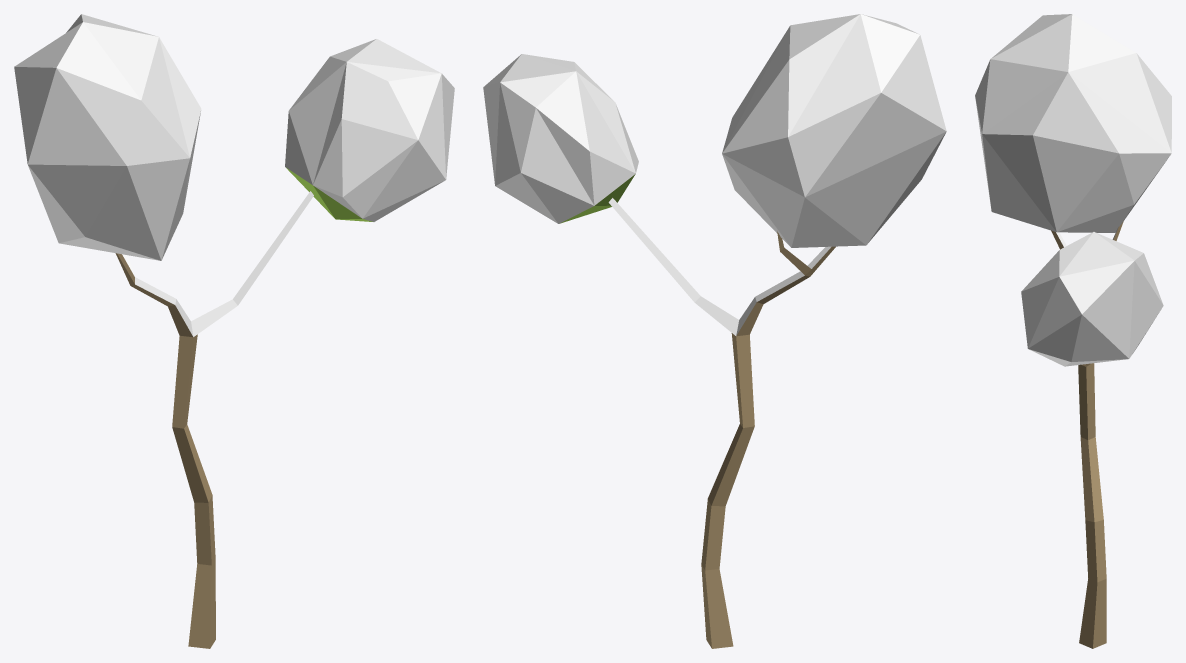
Rendered from Random_Tree_s_Snow_03_LOD.fbx.
The picture shows the model from 3 angles, left to right: view 1: azimuth 30°, elevation 25°; view 2: azimuth 150°, elevation 25°; view 3: azimuth 270°, elevation 25°; orthographic projection. The views are drawn at different scales.
Parts seen in each view (by area): view 1: Random_Tree_s_Snow_03_LOD0; view 2: Random_Tree_s_Snow_03_LOD0; view 3: Random_Tree_s_Snow_03_LOD0.
Part boxes in pixels (left/top/right/bottom): Random_Tree_s_Snow_03_LOD0: left=14, top=14, right=454, bottom=648; Random_Tree_s_Snow_03_LOD0: left=483, top=14, right=946, bottom=648; Random_Tree_s_Snow_03_LOD0: left=975, top=14, right=1171, bottom=648.
Size of what is drawn, in the model's own units: 215 by 303 by 94.29.
